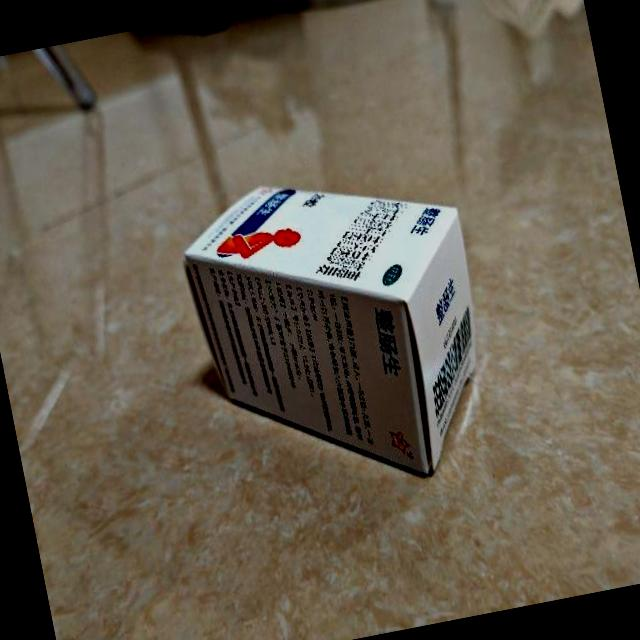box: (170, 148, 507, 514)
